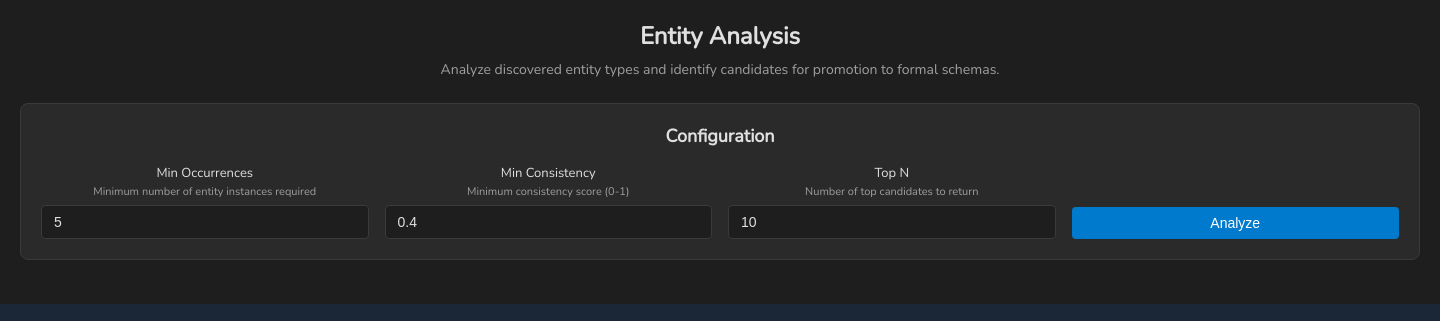
Scenario: EntityAnalysis Component › 5.2: Configuration Updates › updates topN when input changes
Click the number field labelled "Top N Number of top candidates to return": [892, 222] box [728,205,1056,239]
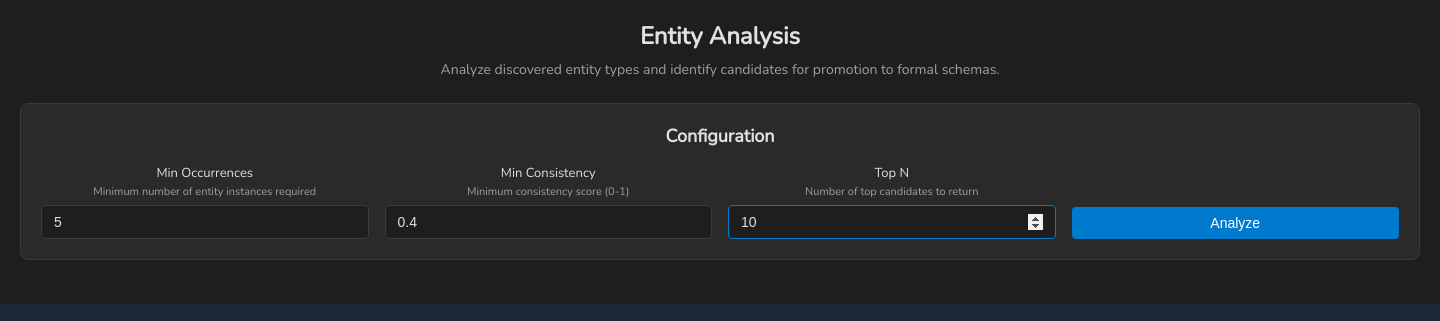
Type keys "20"
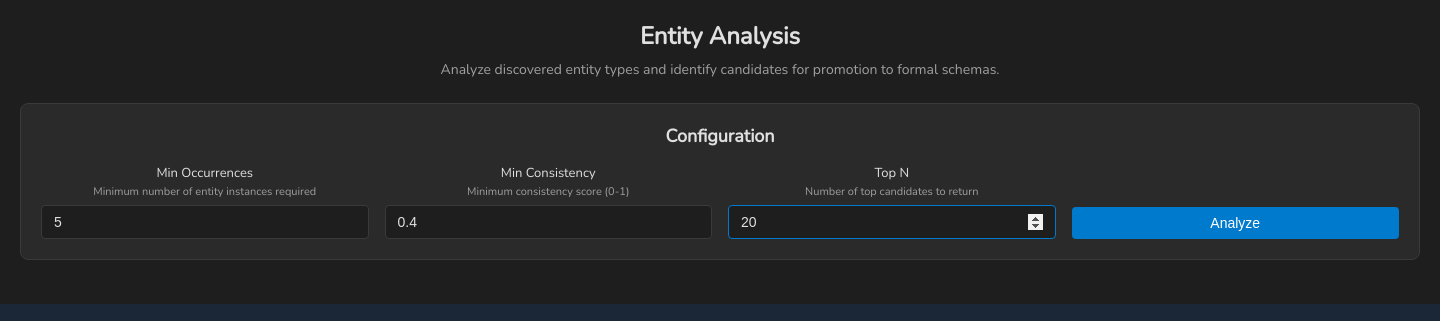
Result: the number field labelled "Top N Number of top candidates to return" holds "20" at [728,205,1056,239]
